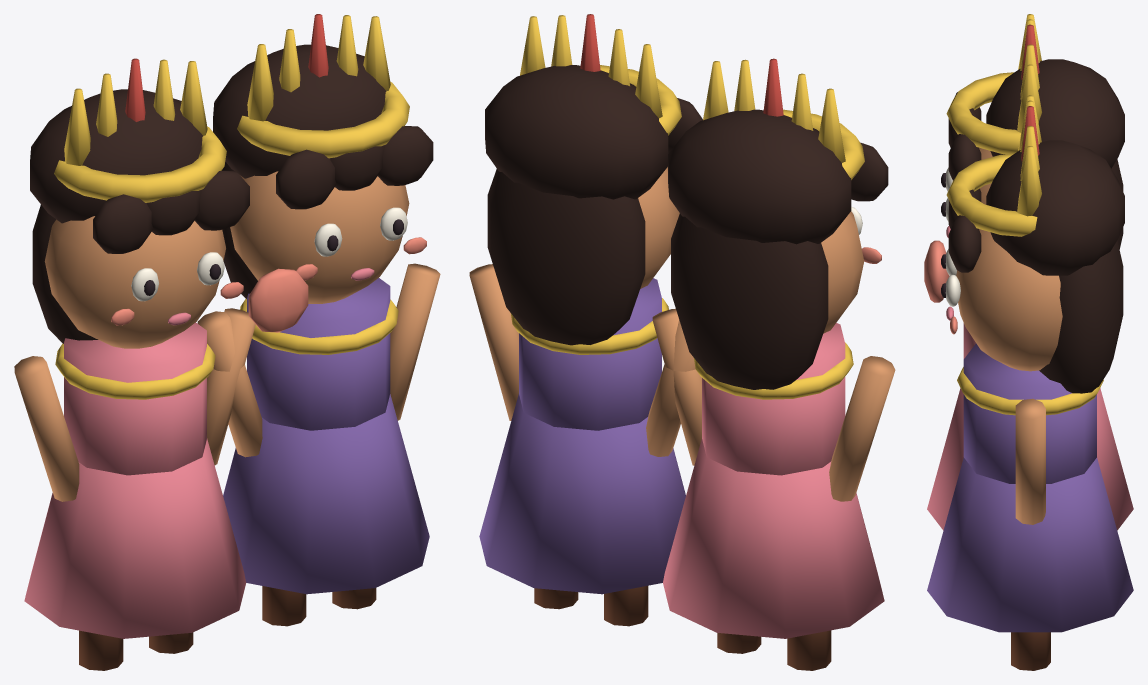
Rendered from phra-phuean-phaeng.glb.
The picture shows the model from 3 angles, left to right: view 1: azimuth 30°, elevation 25°; view 2: azimuth 150°, elevation 25°; view 3: azimuth 270°, elevation 25°; orthographic projection. The views are drawn at different scales.
Parts seen in each view (by area): view 1: phuean_robe, phaeng_robe, phuean_torso, phuean_head, phaeng_torso, phaeng_head, phuean_hair_back, phaeng_hair_back, phaeng_crown_band, phuean_crown_band, phuean_arm_-1, phaeng_arm_1 (+28 smaller); view 2: phuean_robe, phaeng_robe, phaeng_long_hair, phuean_long_hair, phuean_hair_back, phaeng_hair_back, phuean_torso, phaeng_torso, phuean_arm_-1, phaeng_arm_1, phuean_head, phuean_arm_1 (+22 smaller); view 3: phaeng_robe, phaeng_hair_back, phaeng_torso, phaeng_head, phuean_hair_back, phaeng_long_hair, phuean_robe, phaeng_arm_1, phaeng_crown_band, phuean_crown_band, phaeng_belt, phaeng_fringe_2 (+10 smaller).
Part boxes in pixels (x1,y1,x2,y2): phuean_robe: (24, 438, 246, 638); phaeng_robe: (223, 394, 429, 594); phuean_torso: (64, 322, 206, 475); phuean_head: (44, 216, 225, 348); phaeng_torso: (247, 278, 390, 430); phaeng_head: (230, 171, 409, 303); phuean_hair_back: (30, 89, 202, 223); phaeng_hair_back: (213, 44, 386, 178); phaeng_crown_band: (237, 82, 409, 158); phuean_crown_band: (54, 126, 226, 202); phuean_arm_-1: (14, 356, 79, 501); phaeng_arm_1: (390, 263, 440, 420); phuean_robe: (663, 439, 884, 638); phaeng_robe: (479, 394, 685, 594); phaeng_long_hair: (487, 168, 645, 345); phuean_long_hair: (671, 213, 828, 389); phuean_hair_back: (668, 109, 851, 244); phaeng_hair_back: (485, 65, 668, 199); phuean_torso: (702, 323, 845, 475); phaeng_torso: (519, 278, 661, 430); phuean_arm_-1: (829, 356, 895, 501); phaeng_arm_1: (469, 264, 518, 420); phuean_head: (821, 211, 864, 333); phuean_arm_1: (652, 308, 701, 465); phaeng_robe: (927, 457, 1133, 632); phaeng_hair_back: (986, 140, 1124, 275); phaeng_torso: (963, 343, 1096, 483); phaeng_head: (956, 229, 1062, 371); phuean_hair_back: (986, 59, 1124, 168); phaeng_long_hair: (1039, 240, 1123, 393); phuean_robe: (927, 388, 1133, 530); phaeng_arm_1: (1015, 398, 1045, 524); phaeng_crown_band: (946, 153, 1037, 236); phuean_crown_band: (946, 72, 1020, 154); phaeng_belt: (957, 367, 1103, 415); phaeng_fringe_2: (948, 215, 981, 272).
Bounding box in the file's own units: 1.66 × 2.23 × 0.7846.
